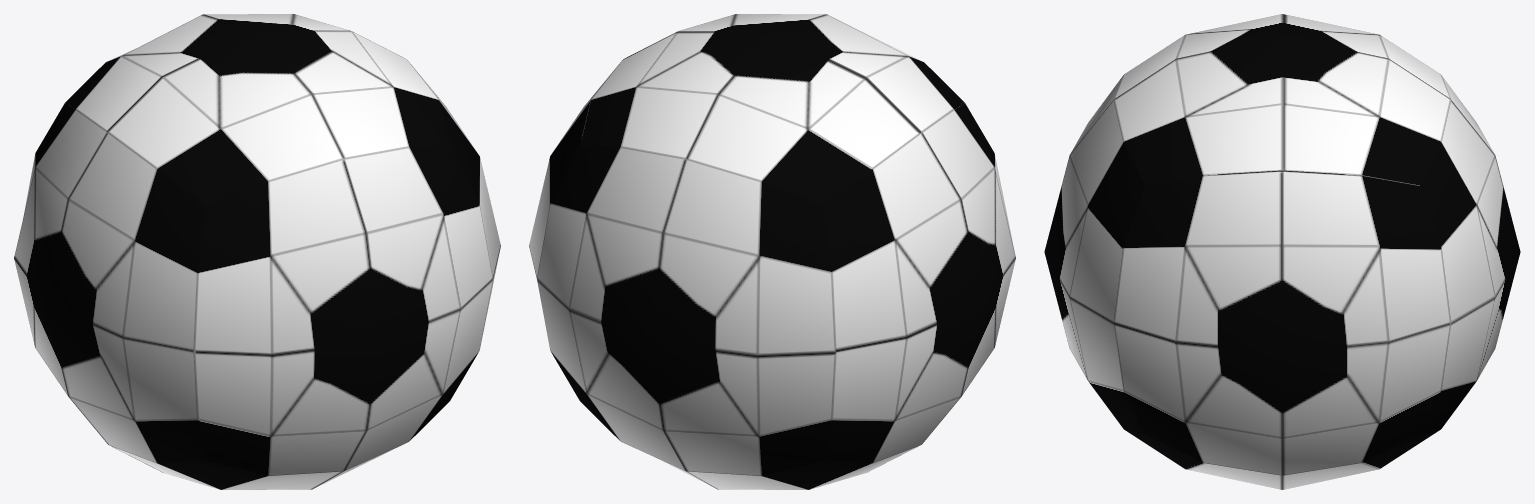
The model's file is soccerball.fbx.
3 renders of one model, left to right at view 1: azimuth 30°, elevation 25°; view 2: azimuth 150°, elevation 25°; view 3: azimuth 270°, elevation 25°, orthographic. The views are drawn at different scales.
Parts seen in each view (by area): view 1: pCube1; view 2: pCube1; view 3: pCube1.
Boxes of the visible parts, box(x1,y1,x2,y2) form: pCube1: box(14, 14, 500, 489); pCube1: box(529, 14, 1015, 489); pCube1: box(1044, 14, 1520, 489).
Size of the model in its own units: 2.2 by 2.2 by 2.2.
